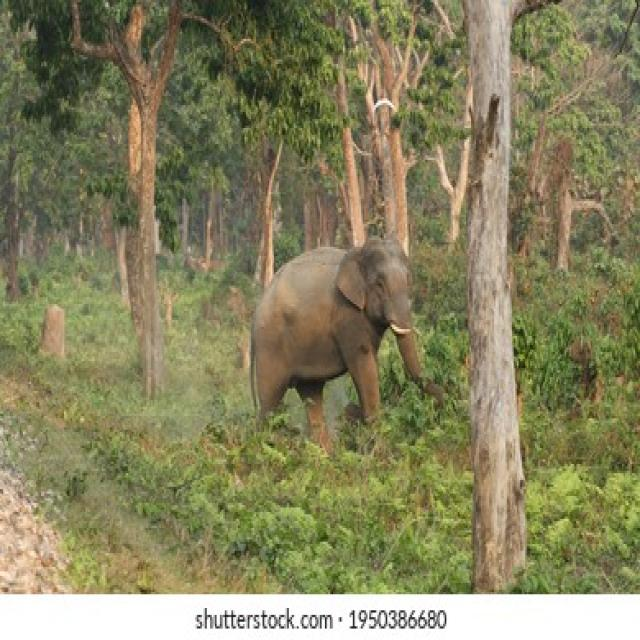Elephant: (242, 226, 436, 449)
